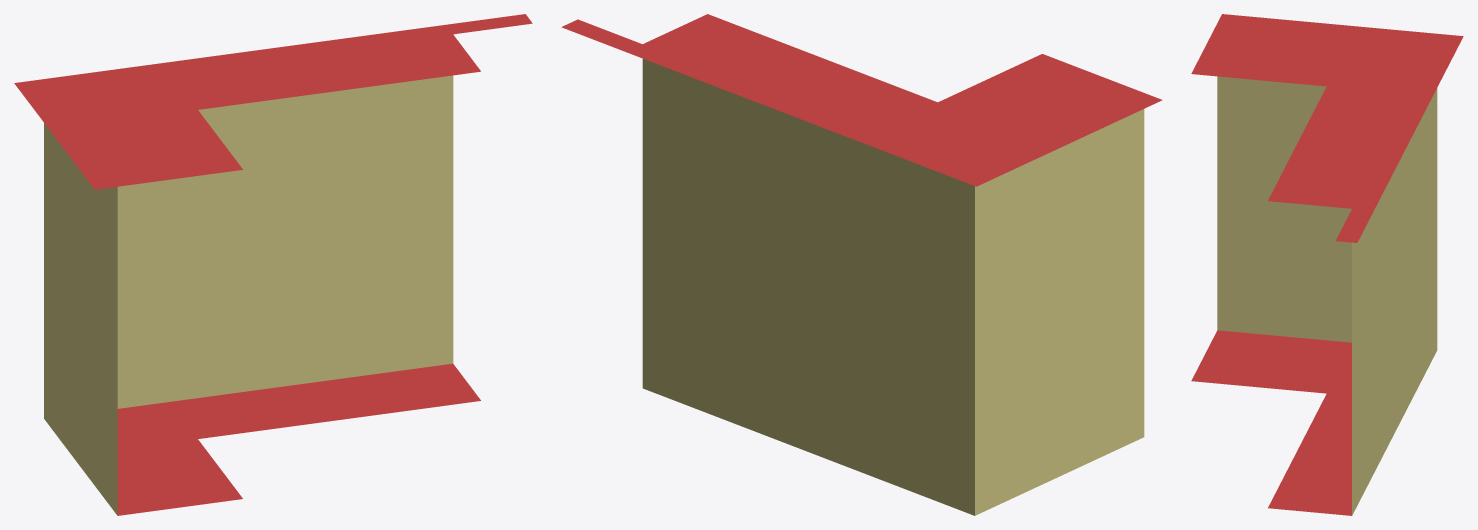
The picture shows the model from 3 angles, left to right: view 1: azimuth 30°, elevation 25°; view 2: azimuth 150°, elevation 25°; view 3: azimuth 270°, elevation 25°; orthographic projection. The views are drawn at different scales.
Size of the model in its own units: 12.15 by 6.11 by 7.6.
